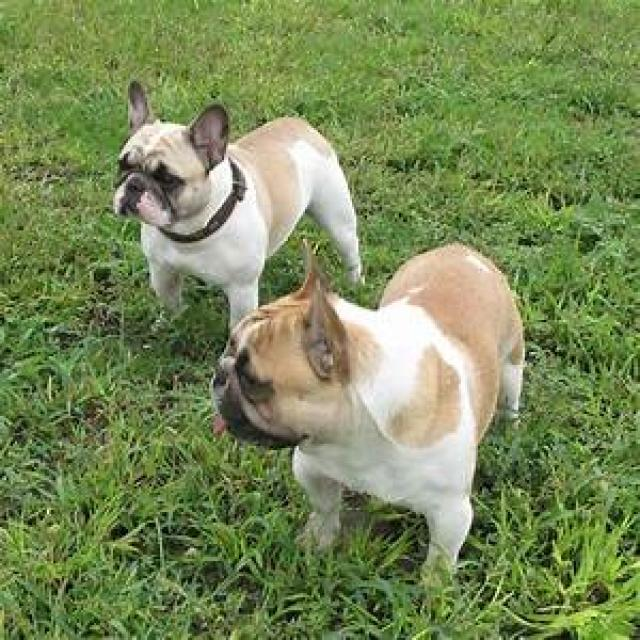dog: (211, 245, 527, 572), (111, 83, 363, 331)
